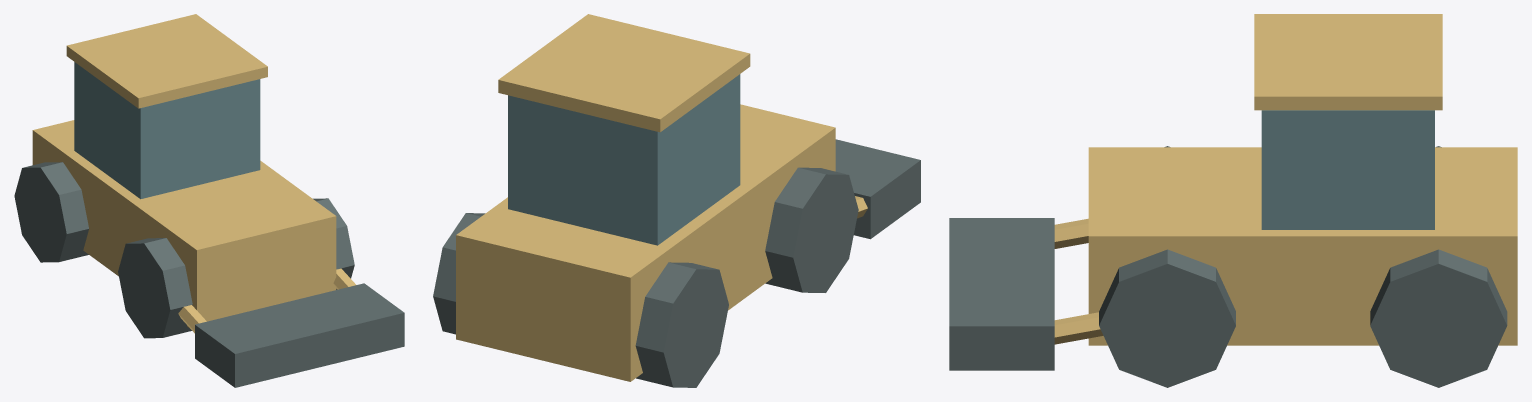
The picture shows the model from 3 angles, left to right: view 1: azimuth 30°, elevation 25°; view 2: azimuth 150°, elevation 25°; view 3: azimuth 270°, elevation 25°; orthographic projection. The views are drawn at different scales.
Bounding box in the file's own units: 3.7 × 4.01 × 7.55.
